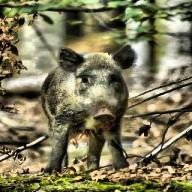boar: (39, 44, 137, 176)
